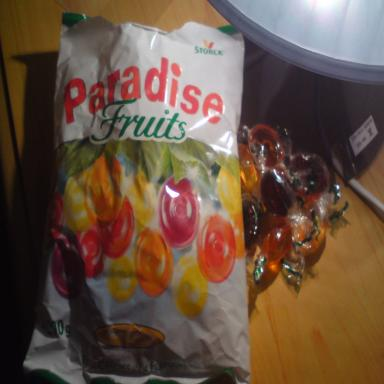plasticbag: (0, 8, 267, 384)
